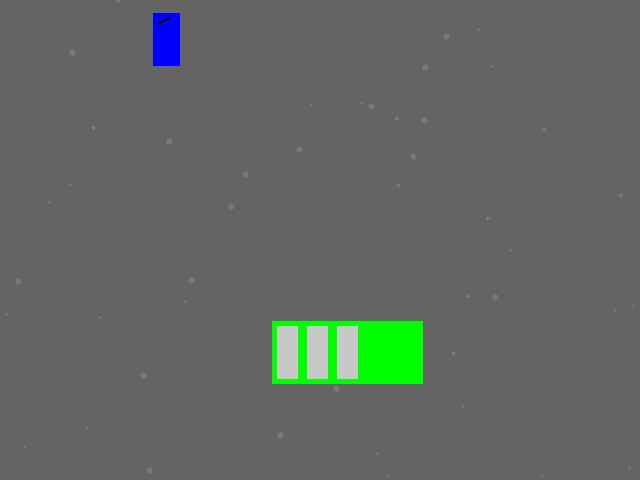bus: (272, 321, 422, 383)
motorcycle: (153, 13, 179, 65)
